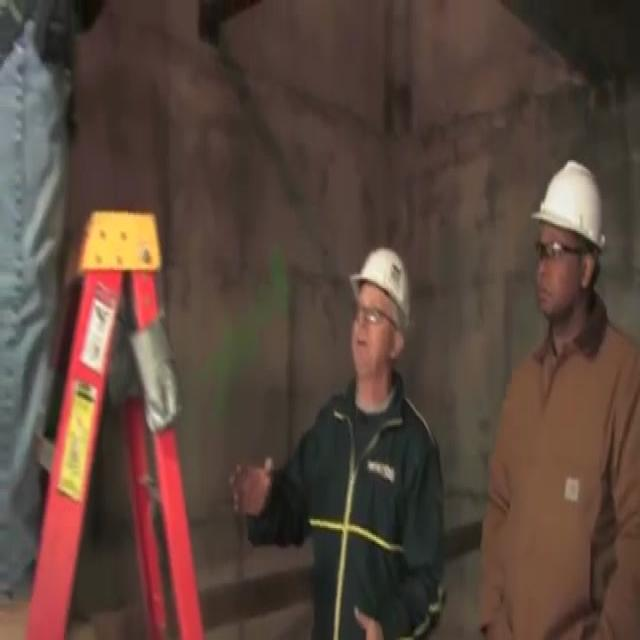Reflective-Jacket: (470, 309, 637, 633), (272, 384, 460, 640)
Safety-Helmet: (521, 148, 617, 268), (343, 228, 426, 346)
